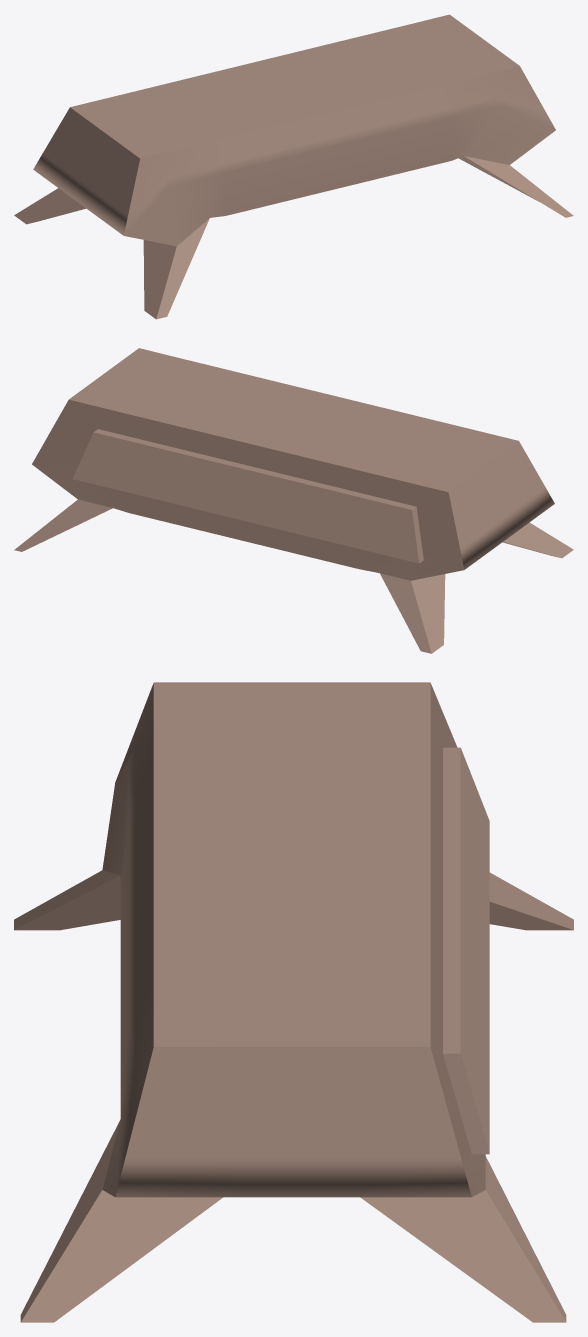
File: coffeetable.fbx
3 renders of one model, top to bottom at view 1: azimuth 30°, elevation 25°; view 2: azimuth 150°, elevation 25°; view 3: azimuth 270°, elevation 25°, orthographic. The views are drawn at different scales.
Parts seen in each view (by area): view 1: pCube50; view 2: pCube50; view 3: pCube50.
Part boxes in pixels (box(x1,y1,x2,y2)): pCube50: box(14, 14, 573, 319); pCube50: box(14, 348, 573, 653); pCube50: box(14, 682, 573, 1322).
Size of the model in its own units: 1.73 by 0.4986 by 0.9872.
